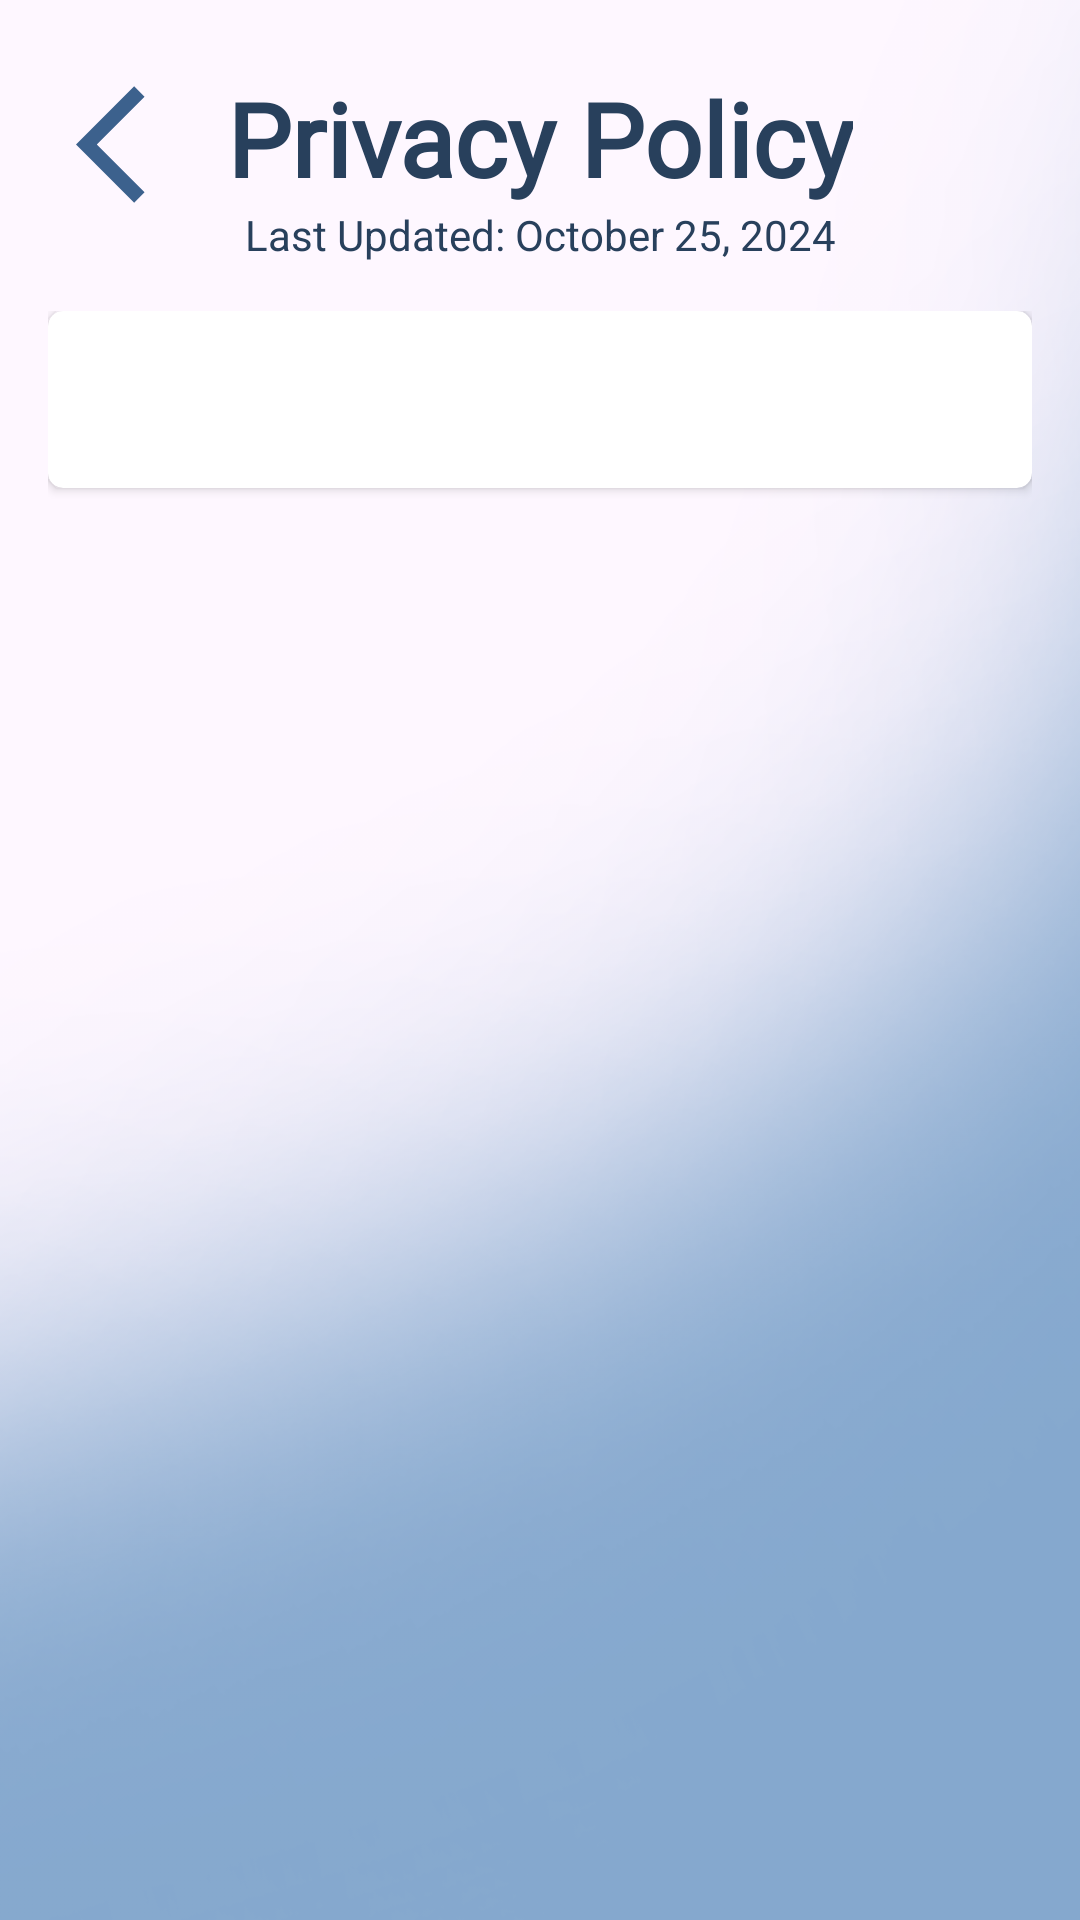

Point at icon controls on the screen. Image size 1080w x 1920h, points as (x=x, y=y).
arrow back: (x=110, y=144)
